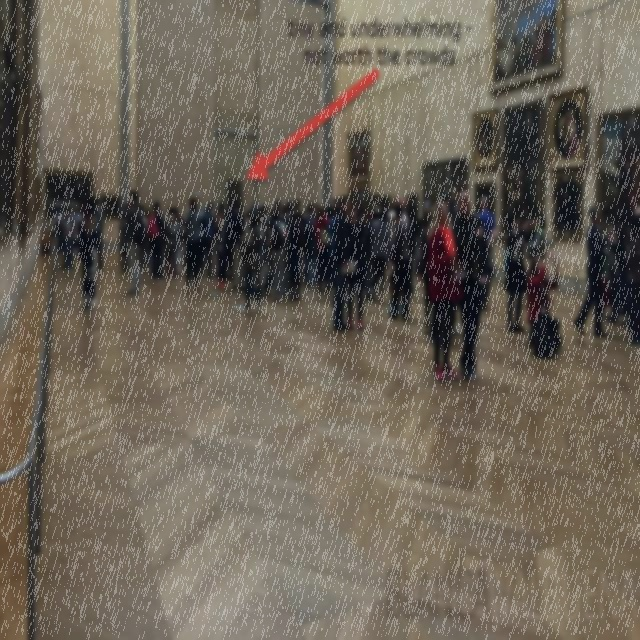pessoa: (425, 199, 468, 383), (450, 189, 490, 382), (572, 202, 609, 338), (494, 5, 558, 76), (502, 210, 536, 333), (504, 109, 542, 218), (526, 250, 562, 358), (385, 202, 412, 321), (386, 194, 410, 316), (622, 189, 640, 345), (603, 225, 630, 328), (240, 202, 264, 316), (344, 206, 366, 330), (332, 192, 351, 332), (77, 194, 99, 312), (124, 190, 146, 295), (182, 194, 205, 294), (262, 198, 283, 298), (370, 205, 391, 304), (418, 209, 434, 335), (616, 136, 639, 216), (268, 209, 287, 301), (476, 194, 496, 280), (146, 198, 166, 282), (286, 209, 304, 301), (313, 202, 331, 292), (228, 200, 245, 292), (213, 206, 230, 290), (326, 202, 342, 290), (362, 209, 377, 301), (58, 199, 78, 267), (280, 200, 294, 295), (302, 209, 318, 286), (88, 196, 104, 270), (61, 204, 78, 270), (557, 106, 579, 157), (258, 215, 274, 285), (525, 212, 547, 262), (168, 206, 182, 280), (202, 200, 215, 278), (409, 216, 422, 293), (116, 204, 130, 272), (164, 206, 175, 276), (556, 188, 574, 228), (53, 197, 64, 255), (477, 124, 494, 158), (236, 210, 250, 250), (351, 138, 366, 175), (198, 216, 207, 276), (450, 302, 463, 342), (424, 166, 433, 221), (138, 246, 152, 274), (446, 184, 456, 223), (303, 200, 313, 225), (294, 197, 302, 227), (430, 302, 436, 341), (256, 202, 274, 215), (179, 216, 185, 255), (227, 242, 233, 280), (322, 203, 336, 219), (300, 257, 308, 284), (138, 203, 150, 220), (357, 210, 370, 222), (312, 200, 320, 216), (253, 269, 258, 294), (172, 206, 180, 221), (162, 244, 167, 268), (144, 219, 148, 247), (386, 276, 392, 292), (316, 259, 320, 282), (281, 202, 287, 214), (218, 200, 225, 210), (374, 206, 379, 220), (353, 197, 358, 210), (402, 210, 408, 220), (125, 202, 132, 210), (346, 212, 350, 222), (328, 280, 333, 288), (224, 209, 228, 217), (215, 208, 219, 214), (322, 270, 324, 282)
